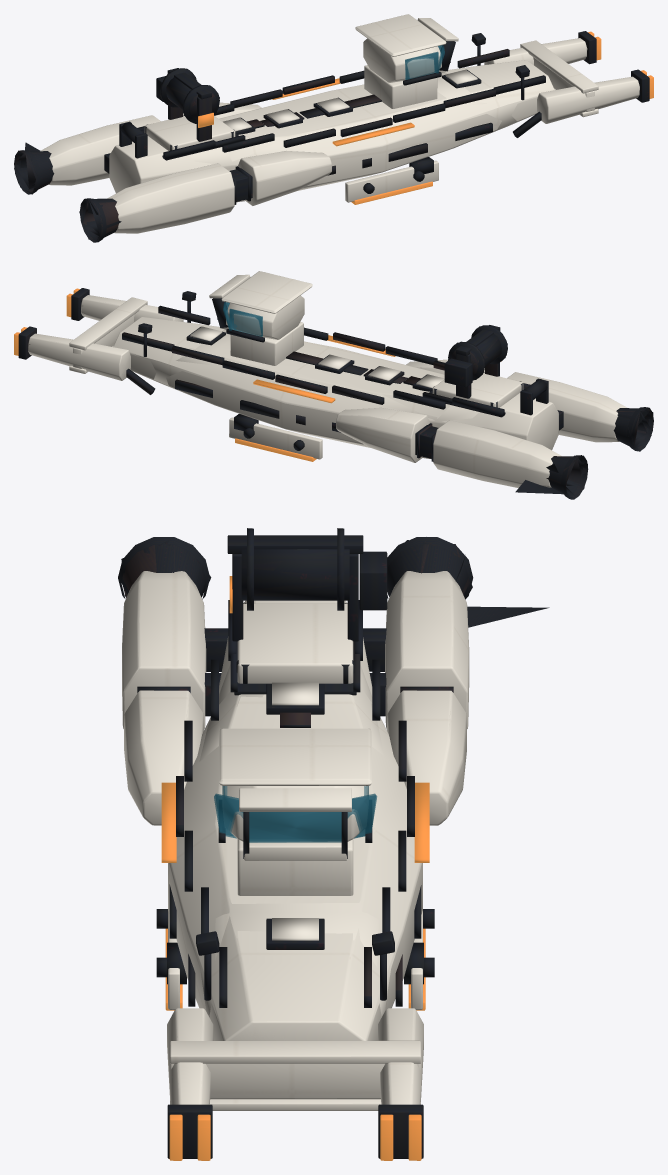
File: yard_tug.glb
The picture shows the model from 3 angles, top to bottom: view 1: azimuth 30°, elevation 25°; view 2: azimuth 150°, elevation 25°; view 3: azimuth 270°, elevation 25°; orthographic projection. The views are drawn at different scales.
Parts seen in each view (by area): view 1: LOD0_Merged_Material_Hull, LOD0_Merged_Material_Mechanical, LOD2_Merged_Material_Hull, LOD1_Merged_Material_Hull, LOD0_HOOK_DRIVE_FAN, LOD0_Merged_Material_Warm, LOD2_HOOK_DRIVE_FAN, LOD0_Merged_Material_Glass, LOD1_HOOK_DRIVE_FAN, LOD2_Merged_Material_Mechanical; view 2: LOD0_Merged_Material_Hull, LOD0_Merged_Material_Mechanical, LOD2_Merged_Material_Hull, LOD1_Merged_Material_Hull, LOD0_HOOK_DRIVE_FAN, LOD0_Merged_Material_Warm, LOD2_HOOK_DRIVE_FAN, LOD1_HOOK_DRIVE_FAN, LOD0_Merged_Material_Glass, LOD2_Merged_Material_Mechanical; view 3: LOD0_Merged_Material_Hull, LOD0_Merged_Material_Mechanical, LOD2_Merged_Material_Hull, LOD1_Merged_Material_Hull, LOD0_HOOK_DRIVE_FAN, LOD0_Merged_Material_Warm, LOD0_Merged_Material_Glass, LOD1_Merged_Material_Glass, LOD2_Merged_Material_Mechanical, LOD2_HOOK_DRIVE_FAN.
Boxes of the visible parts, left/top/right/bottom form: LOD0_Merged_Material_Hull: left=40, top=14, right=639, bottom=233; LOD0_Merged_Material_Mechanical: left=104, top=31, right=649, bottom=204; LOD2_Merged_Material_Hull: left=49, top=41, right=639, bottom=233; LOD1_Merged_Material_Hull: left=50, top=27, right=638, bottom=229; LOD0_HOOK_DRIVE_FAN: left=14, top=150, right=119, bottom=242; LOD0_Merged_Material_Warm: left=198, top=31, right=653, bottom=204; LOD2_HOOK_DRIVE_FAN: left=14, top=142, right=117, bottom=236; LOD0_Merged_Material_Glass: left=405, top=45, right=444, bottom=79; LOD1_HOOK_DRIVE_FAN: left=14, top=150, right=121, bottom=241; LOD2_Merged_Material_Mechanical: left=120, top=68, right=514, bottom=140; LOD0_Merged_Material_Hull: left=28, top=271, right=626, bottom=487; LOD0_Merged_Material_Mechanical: left=18, top=288, right=563, bottom=461; LOD2_Merged_Material_Hull: left=28, top=271, right=618, bottom=486; LOD1_Merged_Material_Hull: left=29, top=275, right=627, bottom=487; LOD0_HOOK_DRIVE_FAN: left=548, top=407, right=653, bottom=499; LOD0_Merged_Material_Warm: left=14, top=288, right=501, bottom=461; LOD2_HOOK_DRIVE_FAN: left=515, top=411, right=652, bottom=494; LOD1_HOOK_DRIVE_FAN: left=546, top=408, right=653, bottom=499; LOD0_Merged_Material_Glass: left=223, top=302, right=262, bottom=336; LOD2_Merged_Material_Mechanical: left=448, top=326, right=547, bottom=396; LOD0_Merged_Material_Hull: left=122, top=571, right=469, bottom=1110; LOD0_Merged_Material_Mechanical: left=137, top=528, right=453, bottom=1158; LOD2_Merged_Material_Hull: left=123, top=578, right=467, bottom=1090; LOD1_Merged_Material_Hull: left=122, top=571, right=468, bottom=1104; LOD0_HOOK_DRIVE_FAN: left=118, top=537, right=473, bottom=599; LOD0_Merged_Material_Warm: left=161, top=576, right=429, bottom=1160; LOD0_Merged_Material_Glass: left=214, top=786, right=377, bottom=842; LOD1_Merged_Material_Glass: left=215, top=786, right=375, bottom=841; LOD2_Merged_Material_Mechanical: left=168, top=528, right=360, bottom=1112; LOD2_HOOK_DRIVE_FAN: left=125, top=544, right=549, bottom=627.
Size of what is drawn, in the model's own units: 26.04 by 6 by 8.61.
5 materials, 5 textured.
